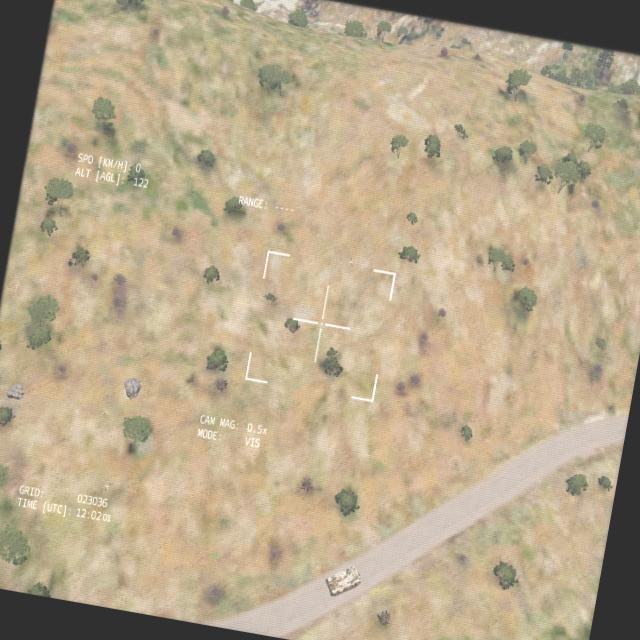tank: (314, 558, 364, 602)
